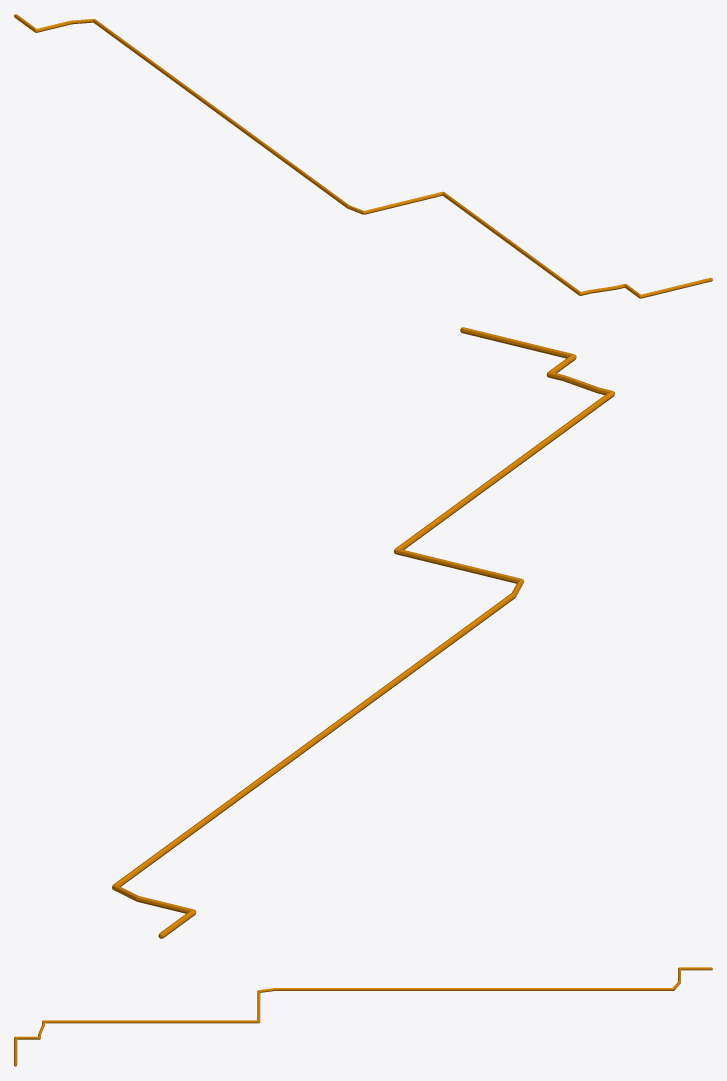
3 views of the same model, one above another, from view 1: azimuth 30°, elevation 25°; view 2: azimuth 150°, elevation 25°; view 3: azimuth 270°, elevation 25° (orthographic). The views are drawn at different scales.
Size of the model in its own units: 1447 by 20 by 4383.
